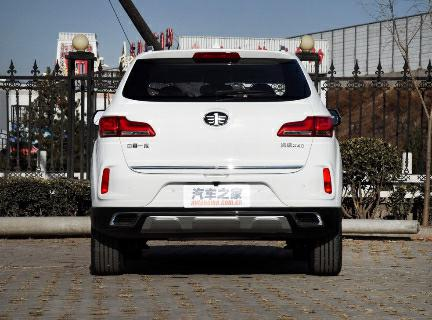奔腾-X80: (86, 45, 352, 284)
